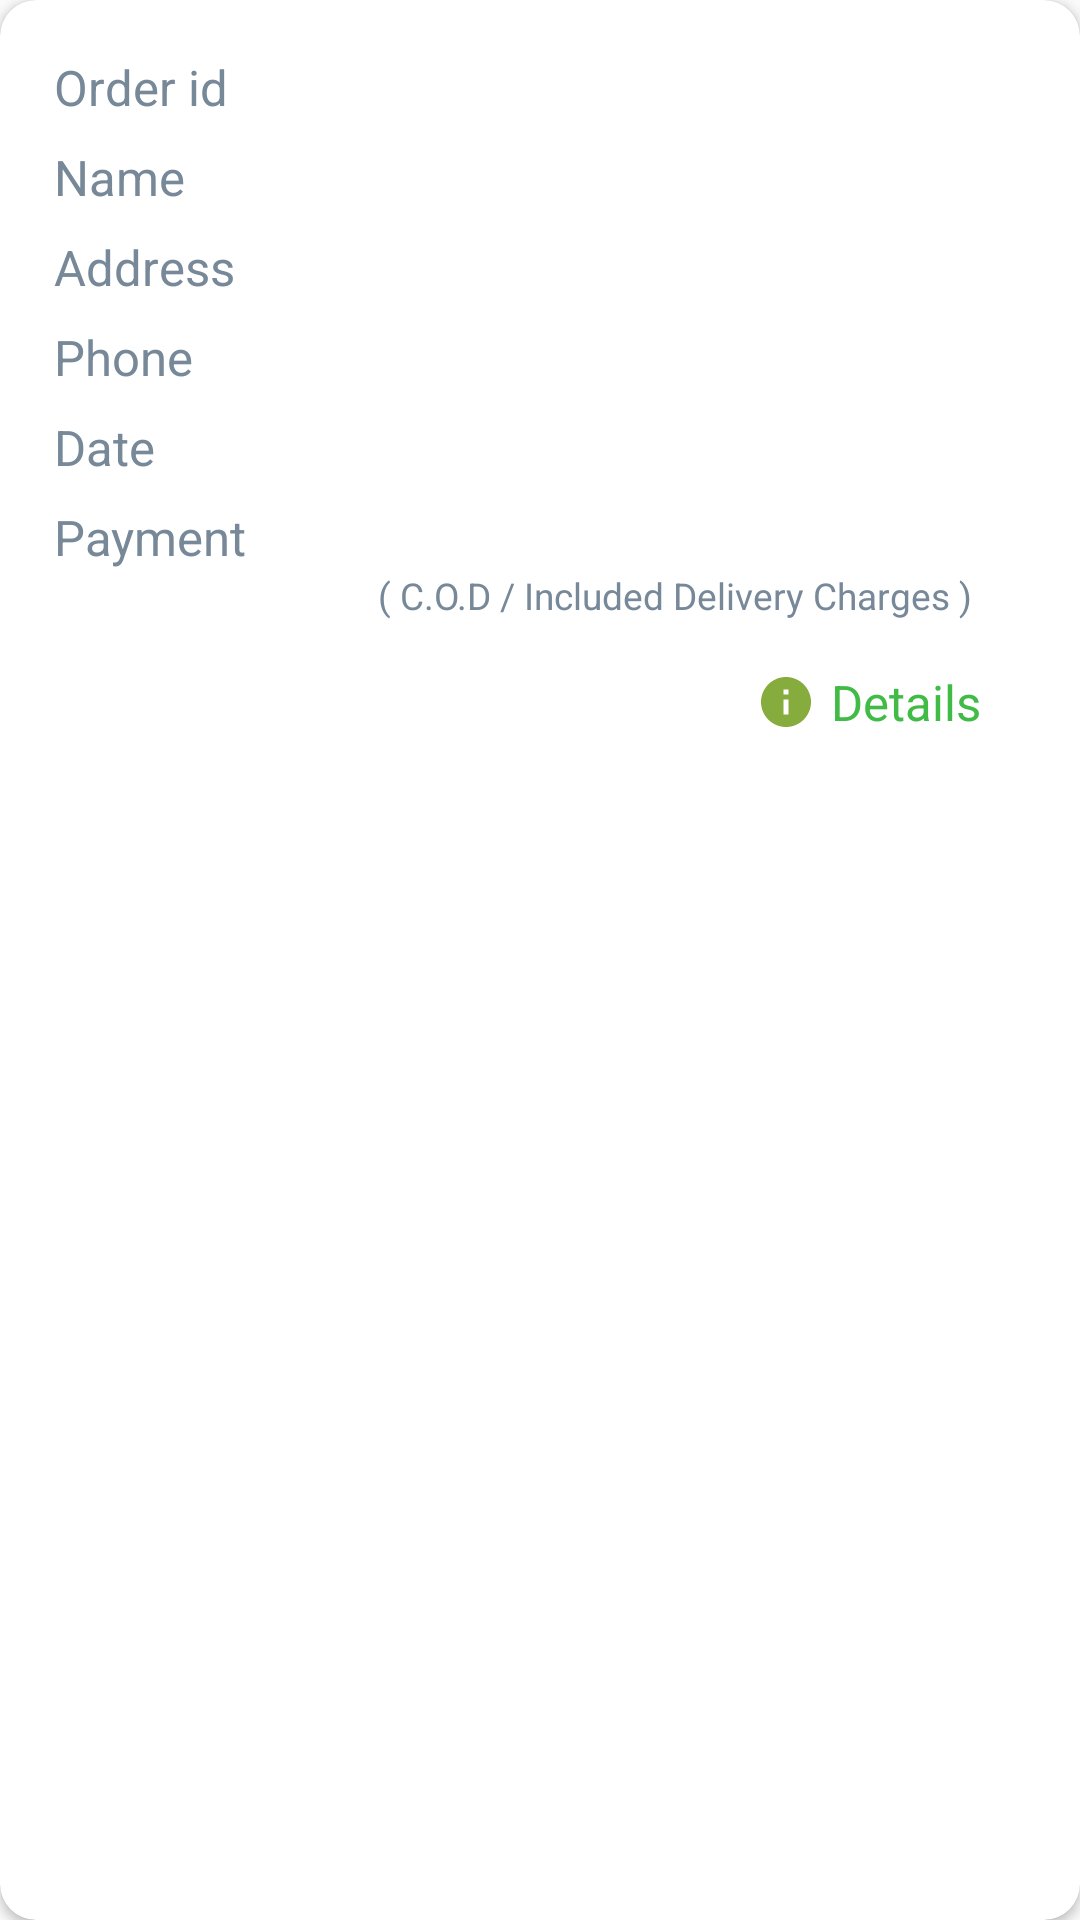

Where to tap for icons on this 1080w x 1920h app screen, as point (x, y):
info: point (786, 702)
